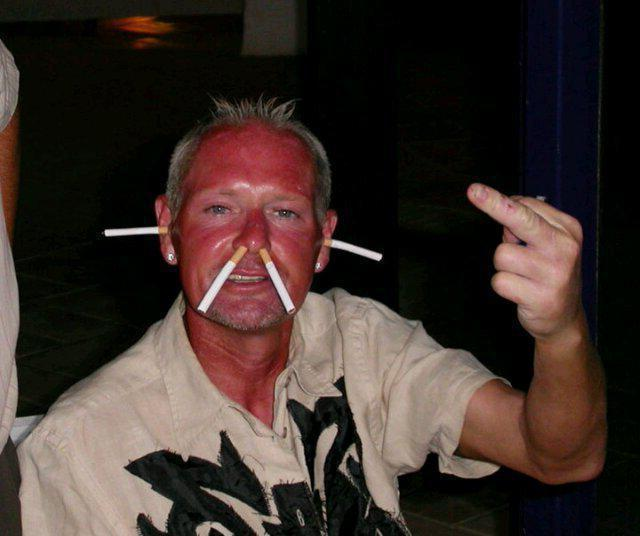Drunk: (189, 116, 322, 330)
